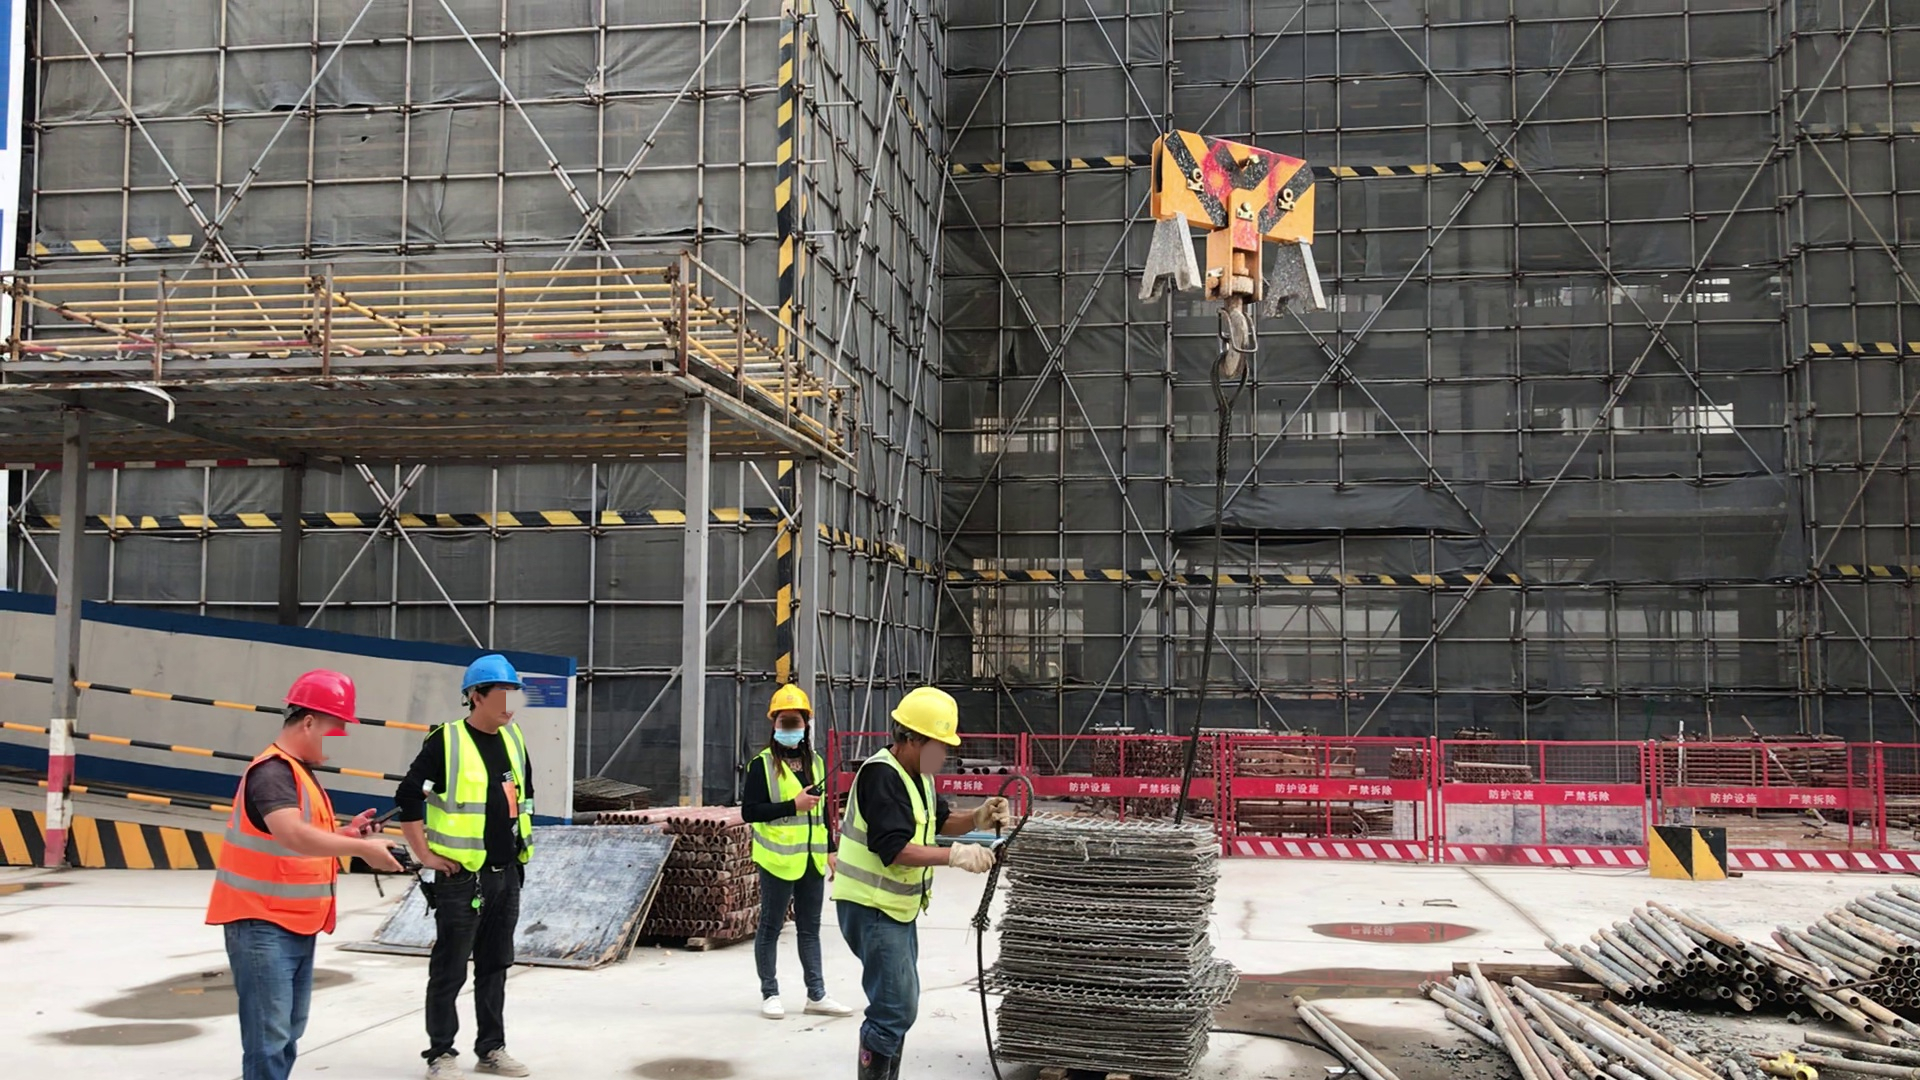helmet: (886, 683, 956, 745), (286, 669, 359, 726), (456, 650, 521, 687), (765, 681, 815, 719)
person: (204, 669, 405, 1080), (834, 686, 1011, 1080), (396, 653, 536, 1080), (741, 683, 855, 1023)
vest: (204, 745, 338, 942), (835, 751, 933, 924), (425, 722, 538, 873), (751, 747, 835, 879)
